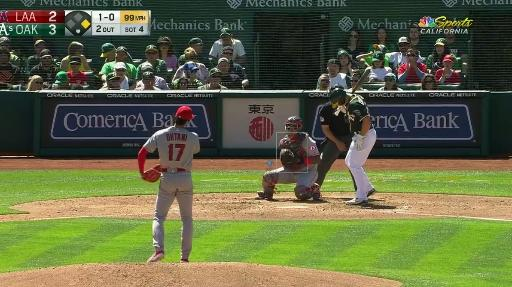pitcher: (137, 105, 202, 263)
